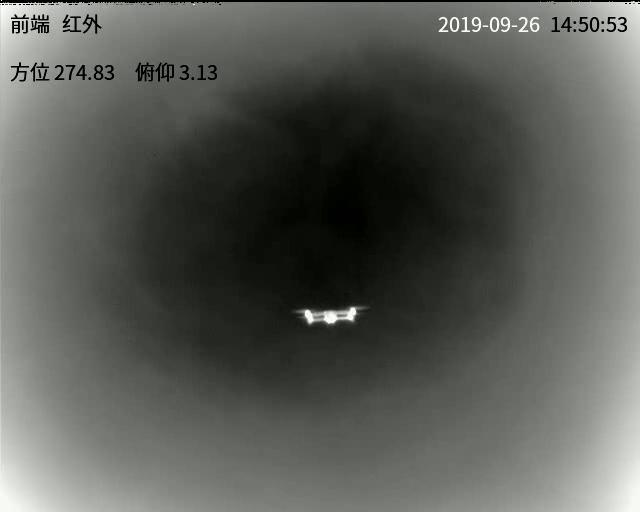DRONE: (295, 304, 361, 326)
